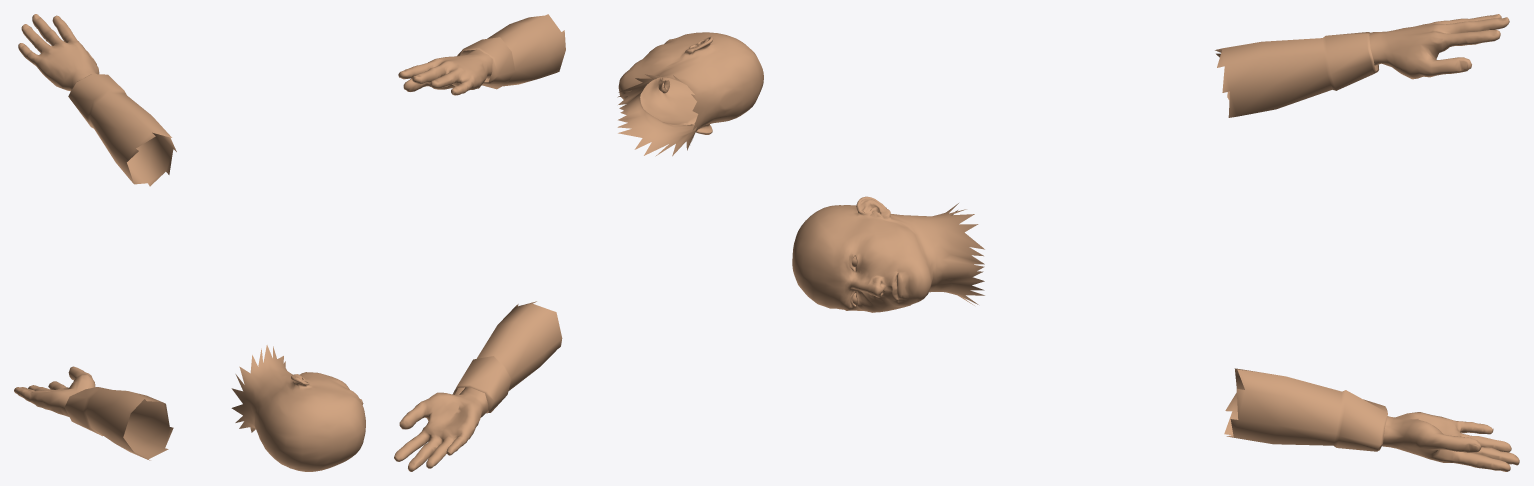
The model's file is skin.obj.
3 renders of one model, left to right at view 1: azimuth 30°, elevation 25°; view 2: azimuth 150°, elevation 25°; view 3: azimuth 270°, elevation 25°, orthographic. The views are drawn at different scales.
Bounding box in the file's own units: 0.205 × 0.7007 × 1.03.
